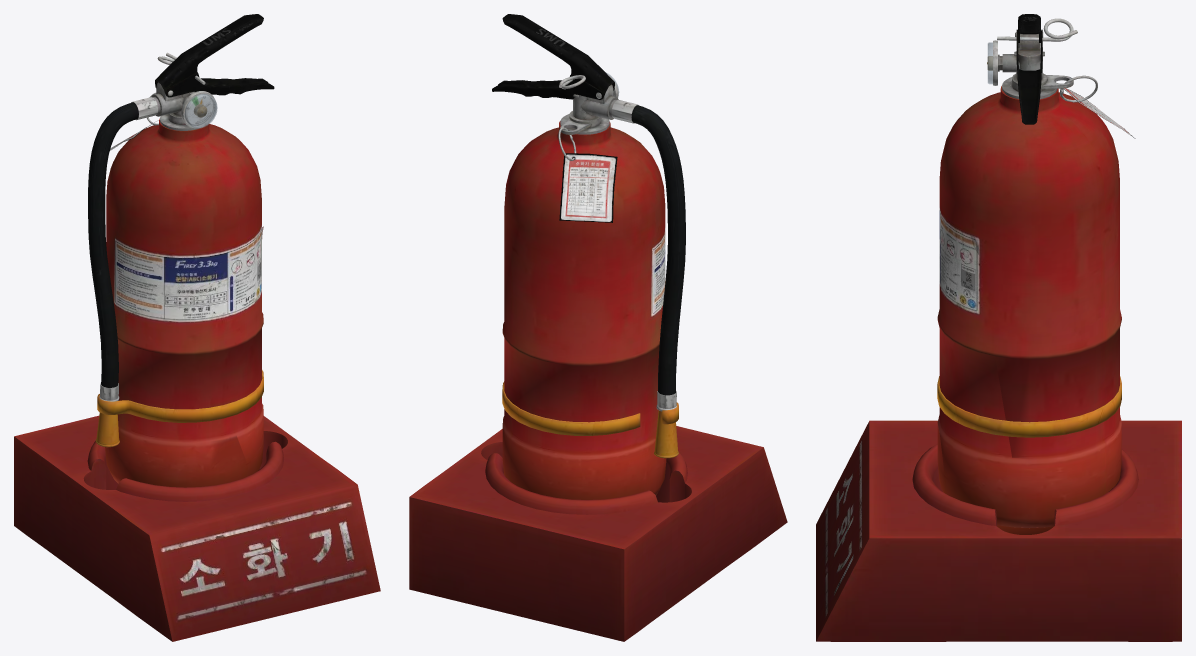
File: korean_fire_extinguisher_01.glb
3 renders of one model, left to right at view 1: azimuth 30°, elevation 25°; view 2: azimuth 150°, elevation 25°; view 3: azimuth 270°, elevation 25°, orthographic. The views are drawn at different scales.
Visible parts, largest first — view 1: korean_fire_extinguisher_01; view 2: korean_fire_extinguisher_01; view 3: korean_fire_extinguisher_01.
Part boxes in pixels (x1=…): korean_fire_extinguisher_01: x1=14, y1=14, x2=380, y2=641; korean_fire_extinguisher_01: x1=409, y1=14, x2=787, y2=641; korean_fire_extinguisher_01: x1=816, y1=14, x2=1181, y2=641.
Size of the model in its own units: 0.28 by 0.6591 by 0.3674.
Materials: 3 (3 with a texture image).
